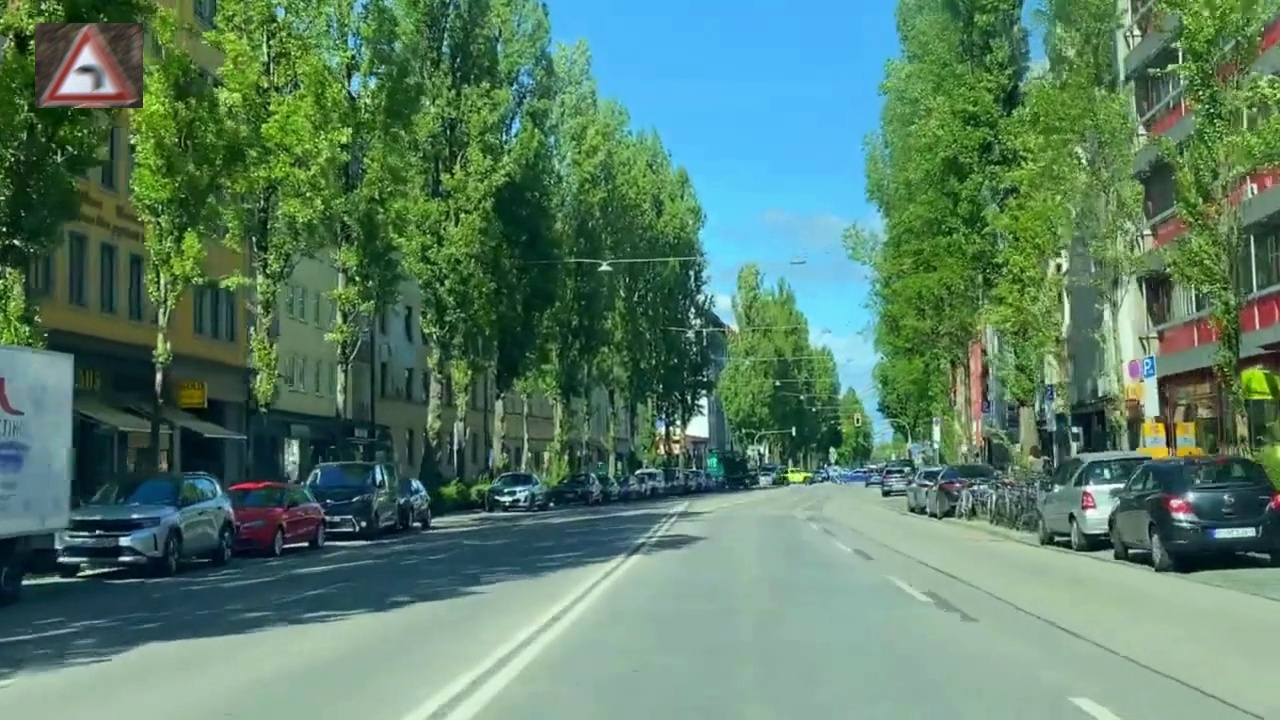Curve left: (35, 23, 143, 108)
